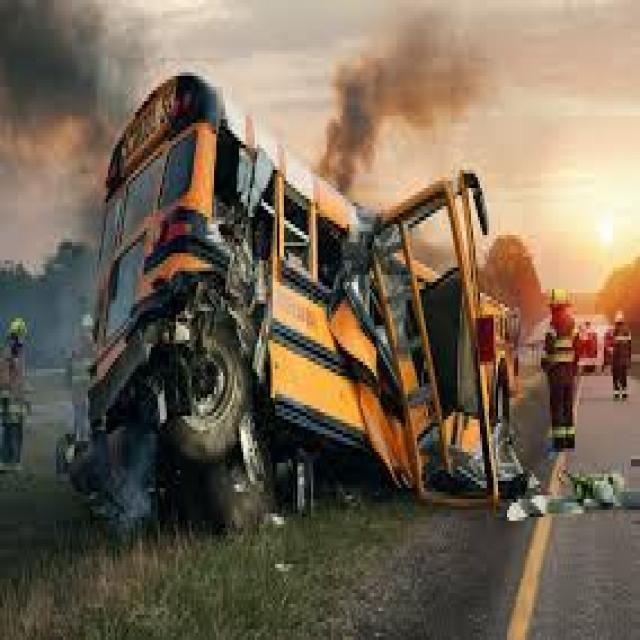Accident: (54, 69, 535, 546)
